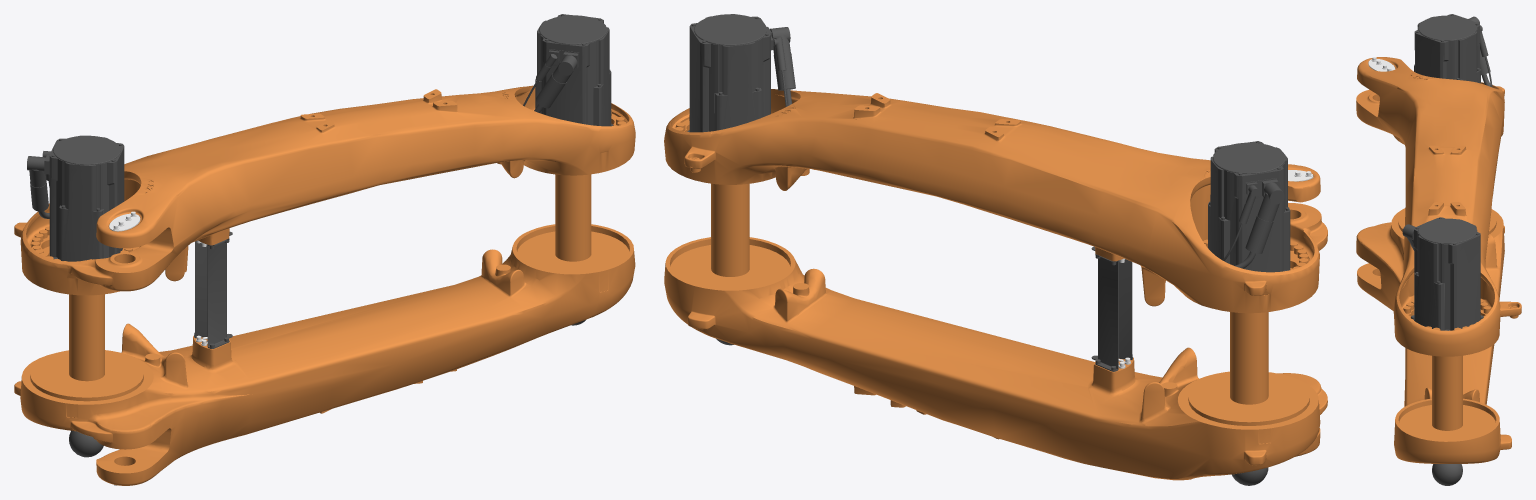
3 views of the same model, side by side, from view 1: azimuth 30°, elevation 25°; view 2: azimuth 150°, elevation 25°; view 3: azimuth 270°, elevation 25° (orthographic). The views are drawn at different scales.
Visible parts, largest first — view 1: link_2; view 2: link_2; view 3: link_2.
Part boxes in pixels (<box>): link_2: <box>14,14,635,485</box>; link_2: <box>664,14,1327,485</box>; link_2: <box>1356,14,1521,485</box>.
Bounding box in the file's own units: 1.91 × 0.5306 × 0.9524.
